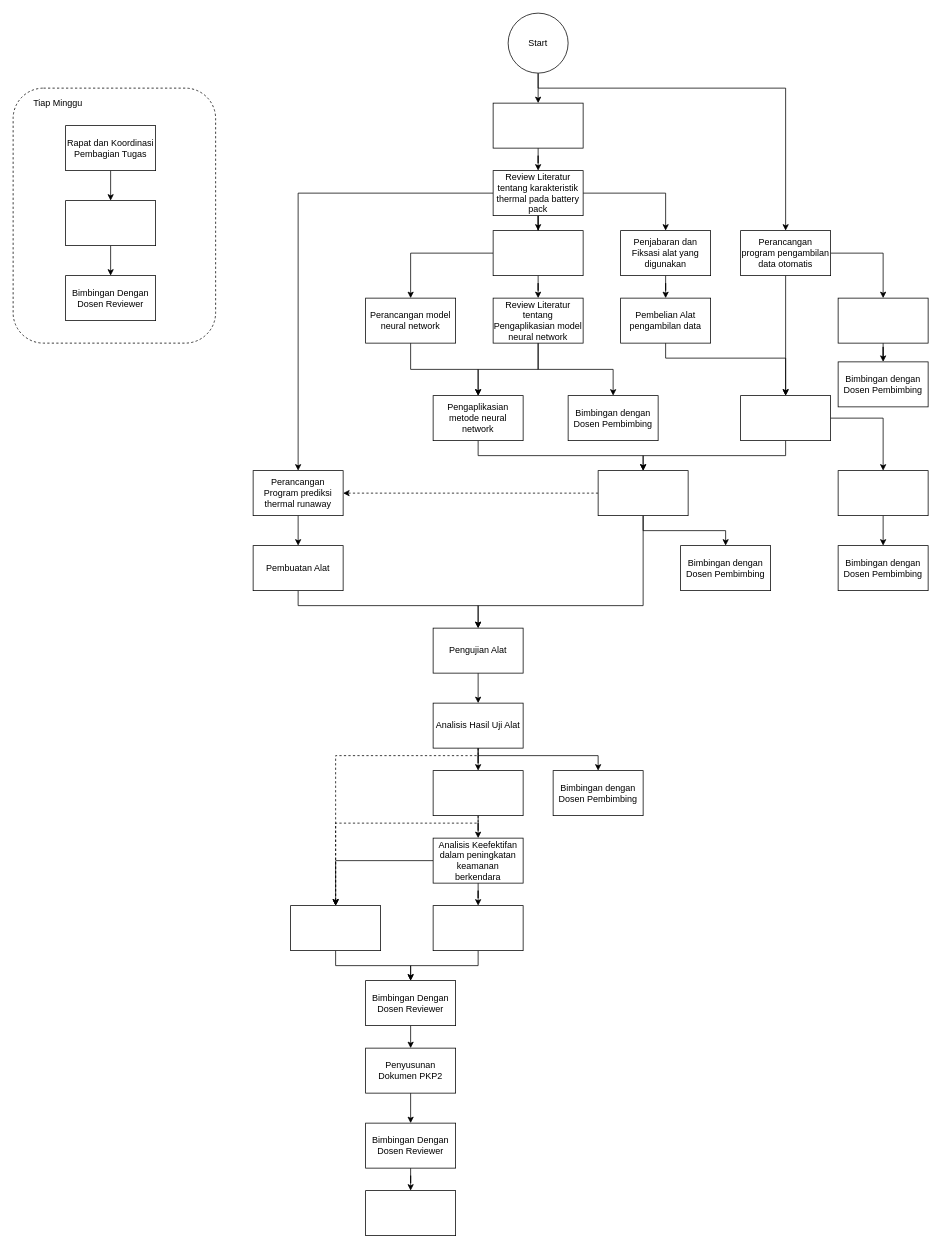
Some shapes in this 941 by 1249 pixel diagram are drawn without their labels. Here are the shapes that lost their labels. From the top down, the centre of each, then its label:
(x=537, y=125): Penjabaran dan Fiksasi Metode Penelitian
(x=110, y=223): Penyusunan Laporan Kemajuan
(x=537, y=253): Review Literatur tentang pengolahan data dengan metode neural network
(x=882, y=320): Analisis Kerja program pengambilan data otomatis
(x=785, y=418): Pengambilan Data
(x=642, y=493): Validasi model dengan data yang dikumpulkan
(x=882, y=493): Analisis Data yang dikumpulkan
(x=477, y=793): Analisis Kesesuaian dengan target luaran
(x=335, y=928): Penyusunan Laporan Akhir
(x=477, y=928): Dokumentasi Performa Alat
(x=410, y=1213): Publikasi Artikel Ilmiah
